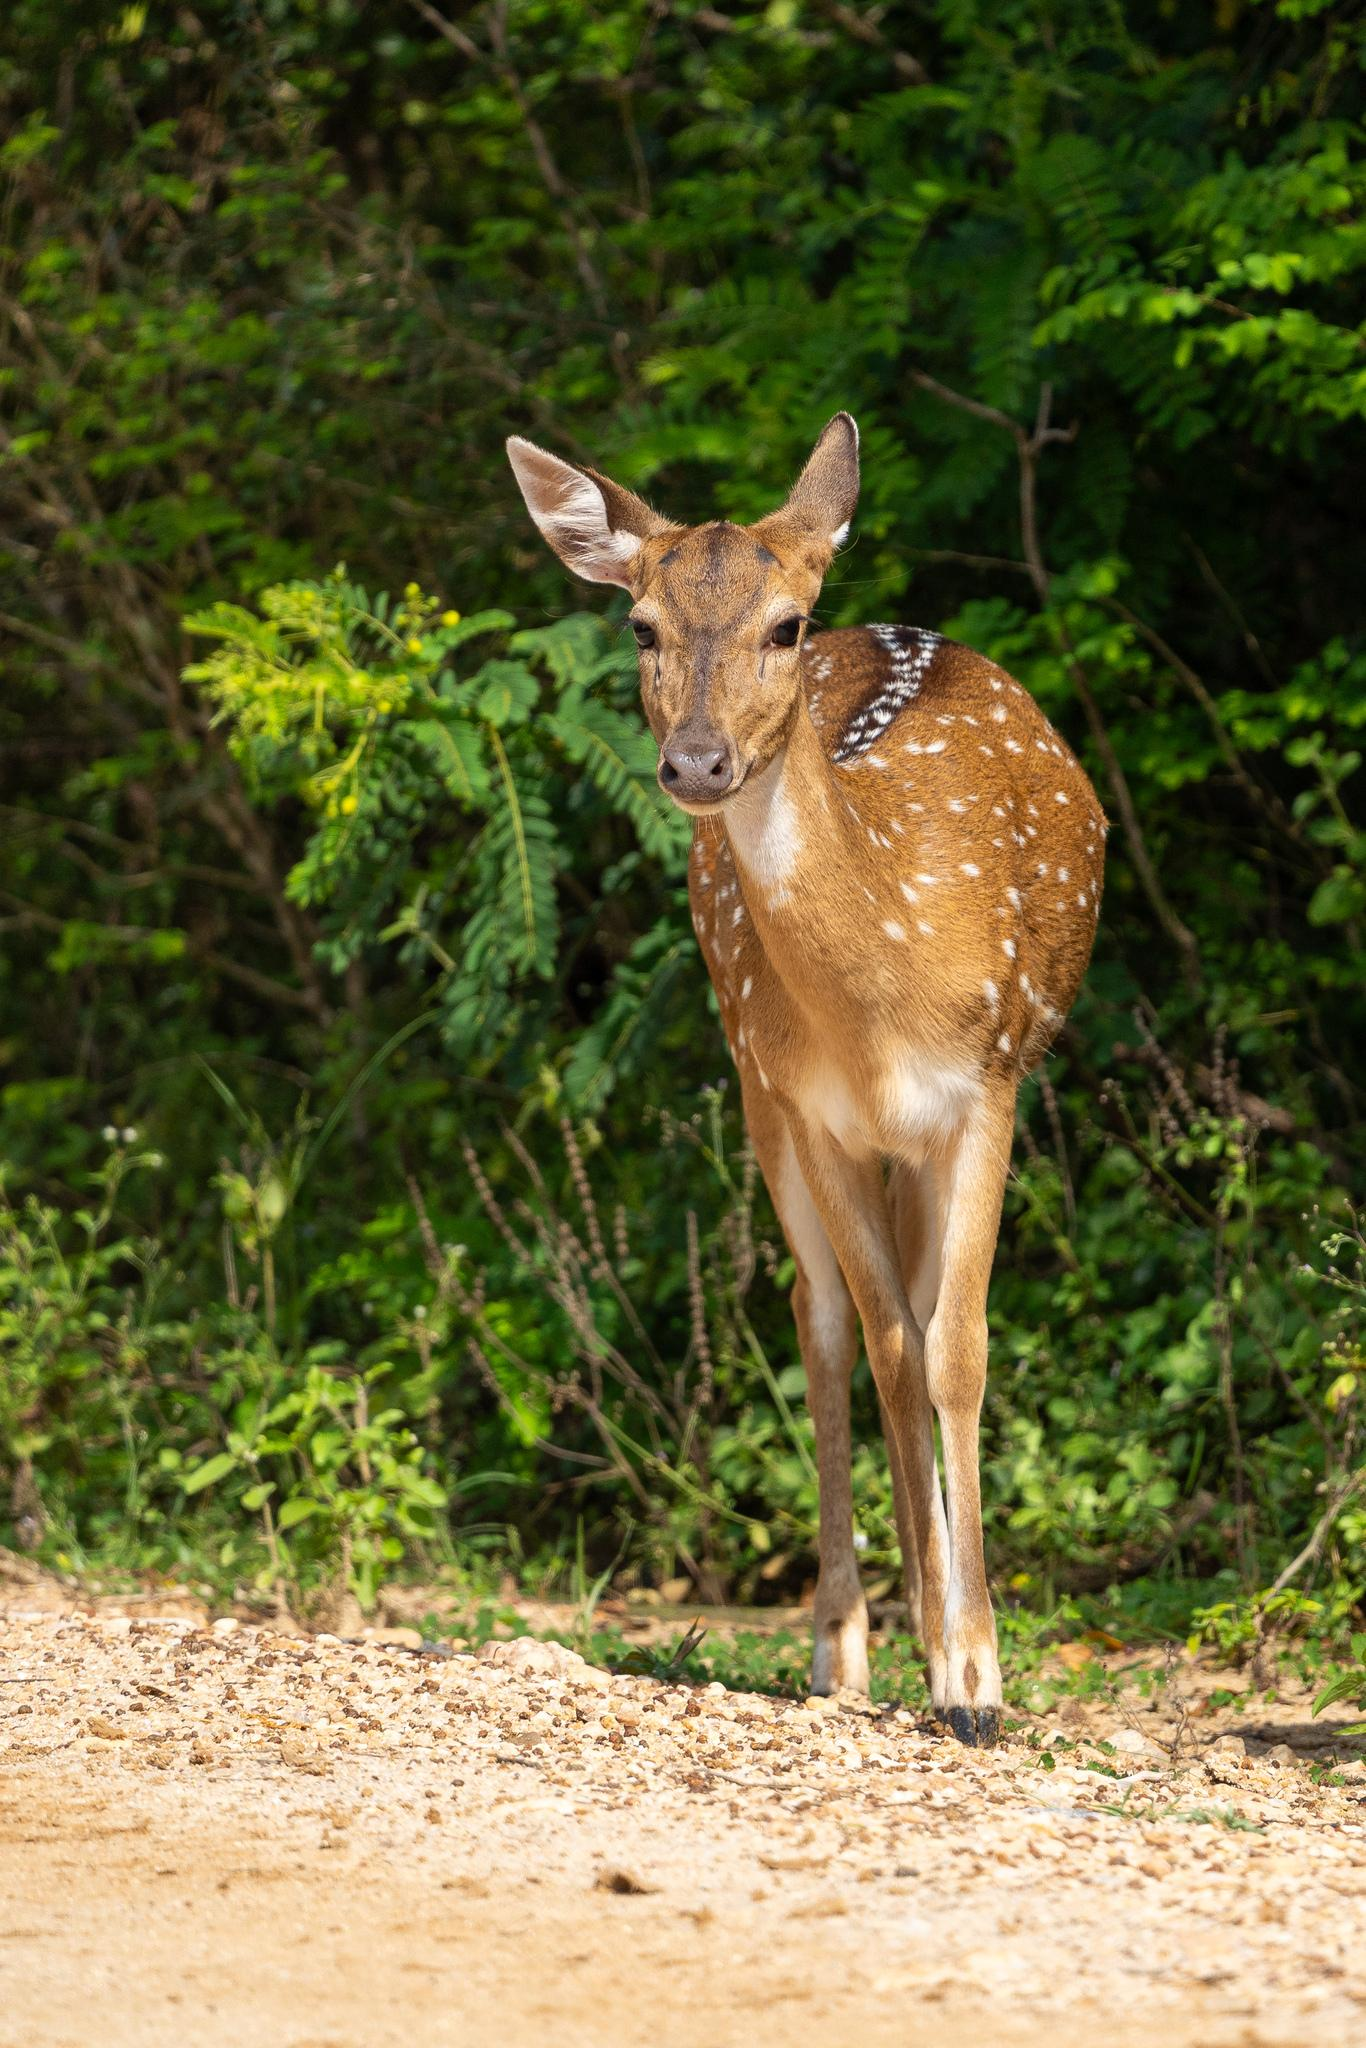Deer: (508, 411, 1104, 1740)
